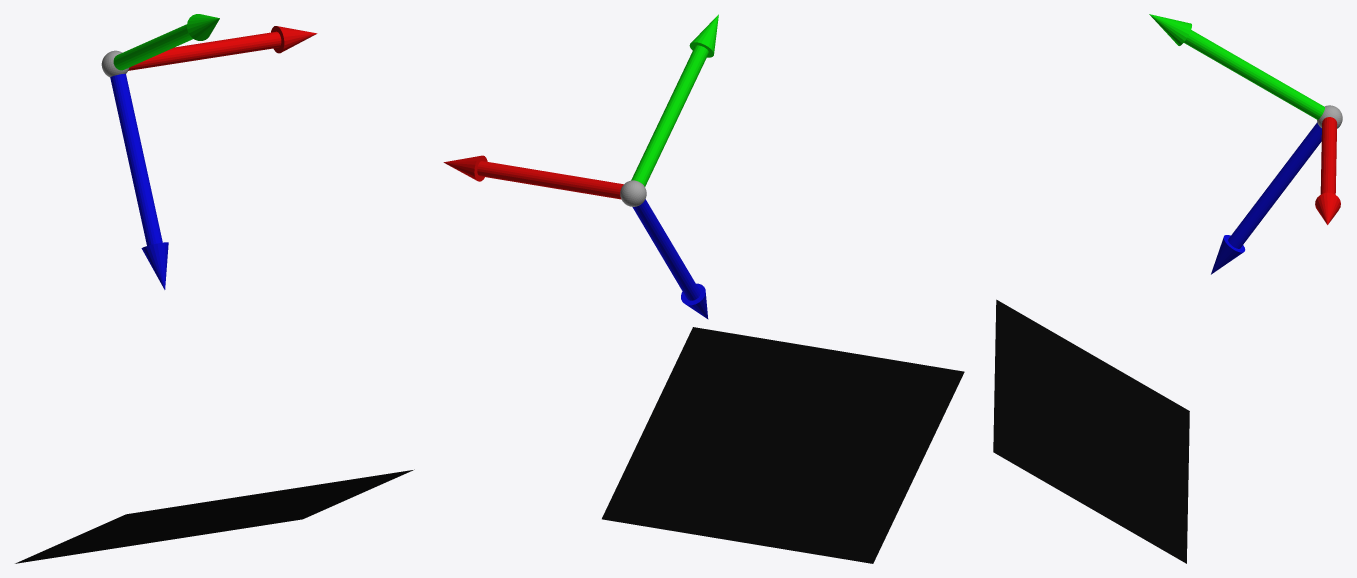
The picture shows the model from 3 angles, left to right: view 1: azimuth 30°, elevation 25°; view 2: azimuth 150°, elevation 25°; view 3: azimuth 270°, elevation 25°; orthographic projection. The views are drawn at different scales.
Size of the model in its own units: 0.2341 by 0.3205 by 0.2017.
